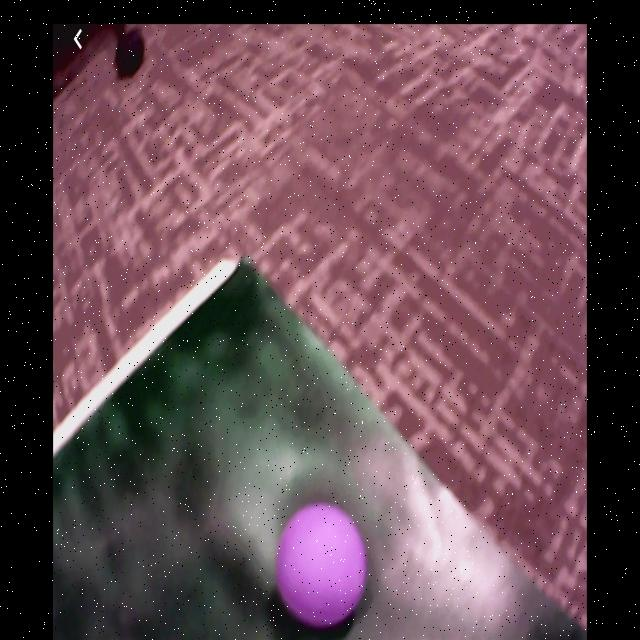ball: (276, 505, 367, 632)
